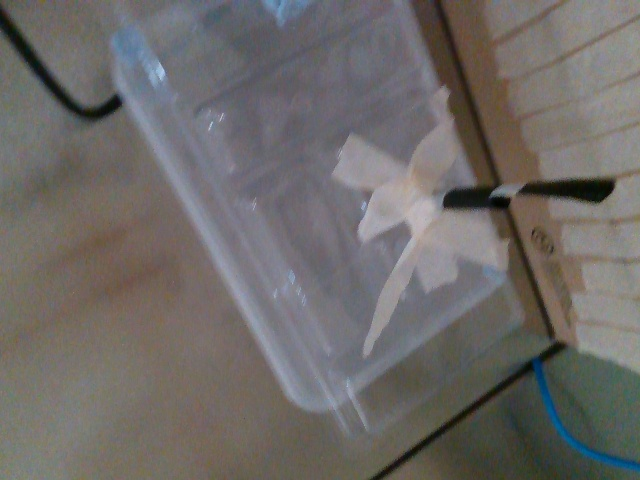test_strip: (488, 177, 616, 207)
